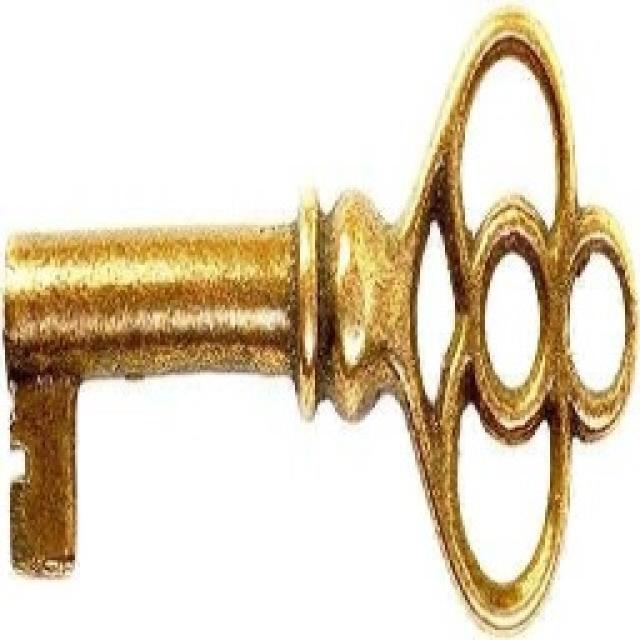anahtar: (4, 9, 638, 638)
